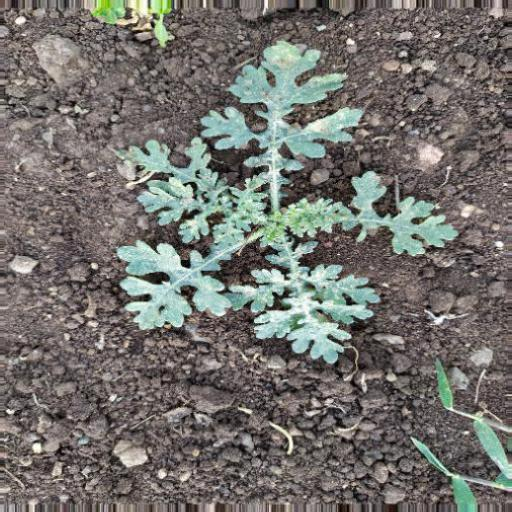weed: (114, 44, 453, 380)
